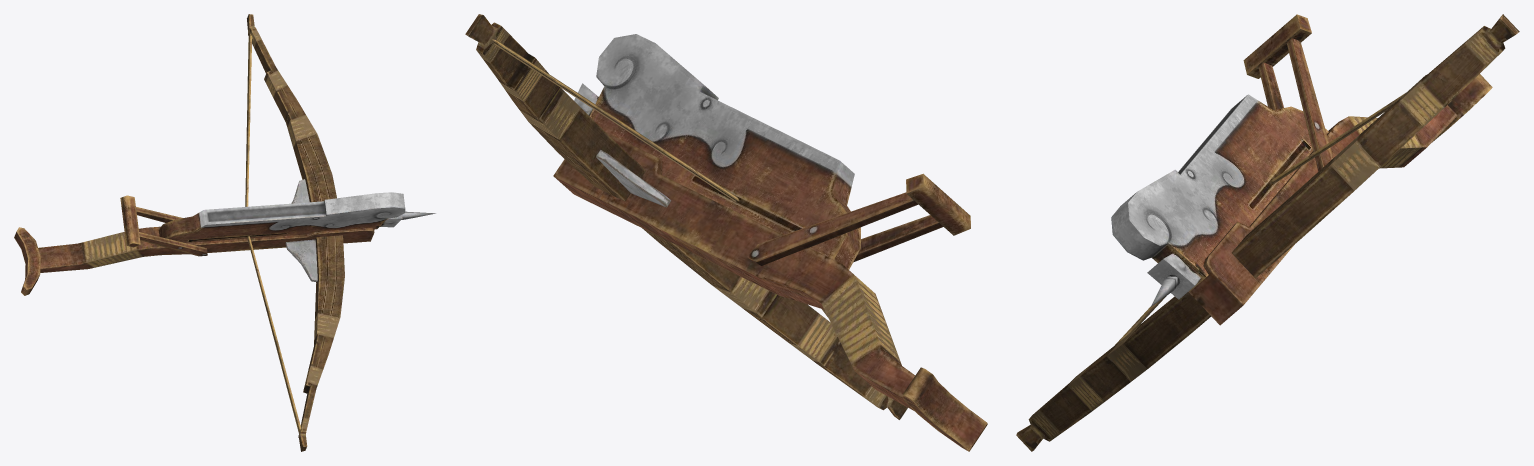
File: weapon-bronzeweapons.glb
3 renders of one model, left to right at view 1: azimuth 30°, elevation 25°; view 2: azimuth 150°, elevation 25°; view 3: azimuth 270°, elevation 25°, orthographic. The views are drawn at different scales.
Size of the model in its own units: 0.9457 by 0.8389 by 0.7521.
1 material, 1 textured.
